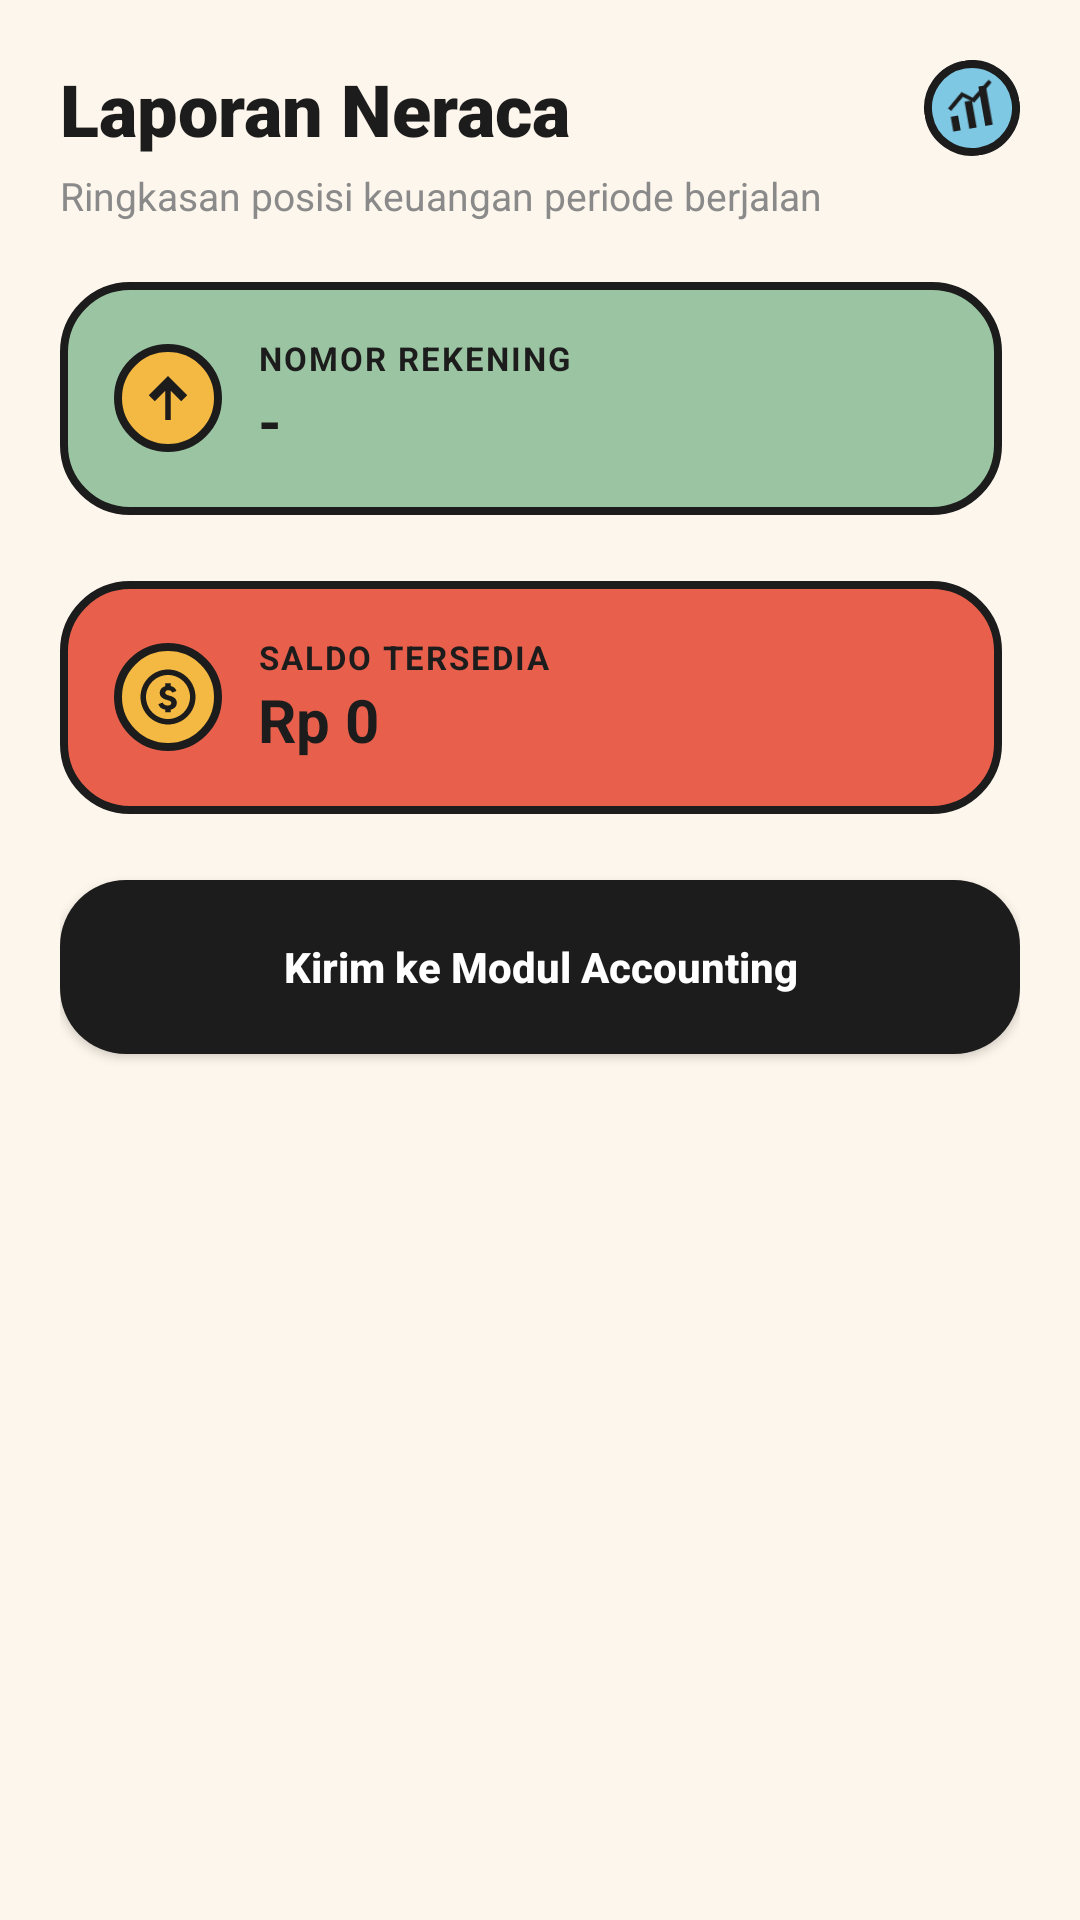

Icon click points for this 1080*1920 phone screenshot, format (x=x, y=y):
arrow up: (x=168, y=398)
coin: (x=168, y=697)
